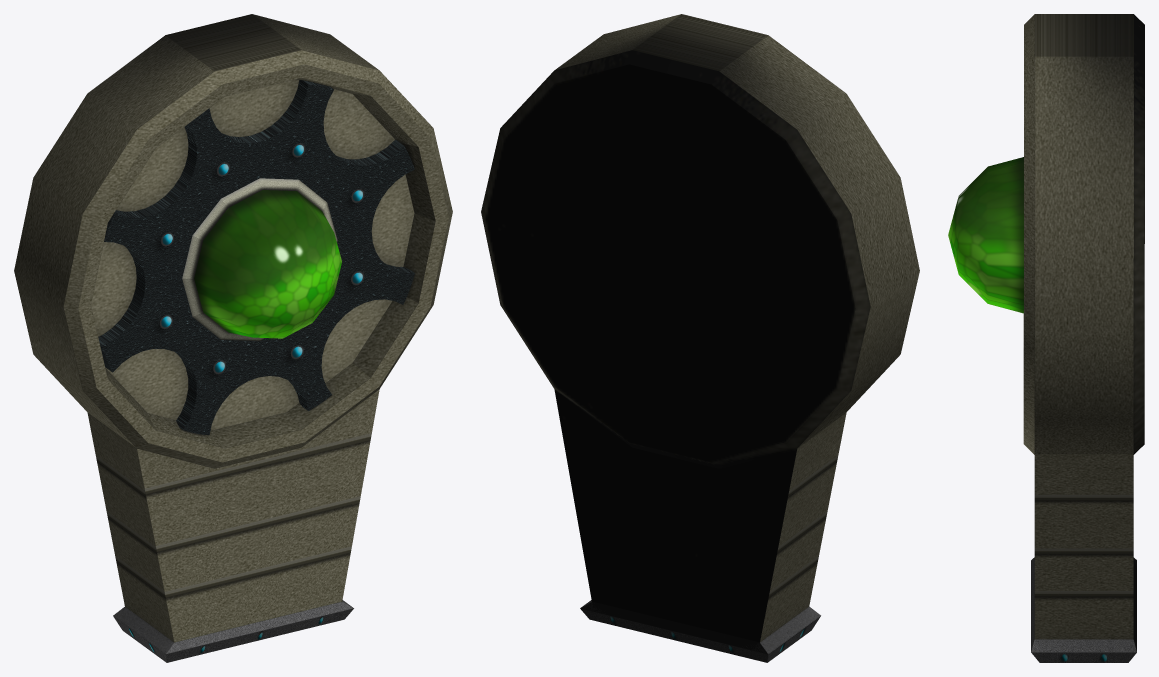
The model's file is cannon.FBX.
3 views of the same model, side by side, from view 1: azimuth 30°, elevation 25°; view 2: azimuth 150°, elevation 25°; view 3: azimuth 270°, elevation 25° (orthographic).
Visible parts, largest first — view 1: cannon, cannonGear, cannonCrystal; view 2: cannon; view 3: cannon, cannonCrystal.
Boxes of the visible parts, x1=… form: cannon: x1=14, y1=14, x2=452, y2=662; cannonGear: x1=98, y1=80, x2=414, y2=435; cannonCrystal: x1=182, y1=178, x2=341, y2=341; cannon: x1=481, y1=14, x2=919, y2=662; cannon: x1=1023, y1=14, x2=1144, y2=662; cannonCrystal: x1=948, y1=157, x2=1023, y2=313.
Size of the model in its own units: 120 by 171 by 52.31.
